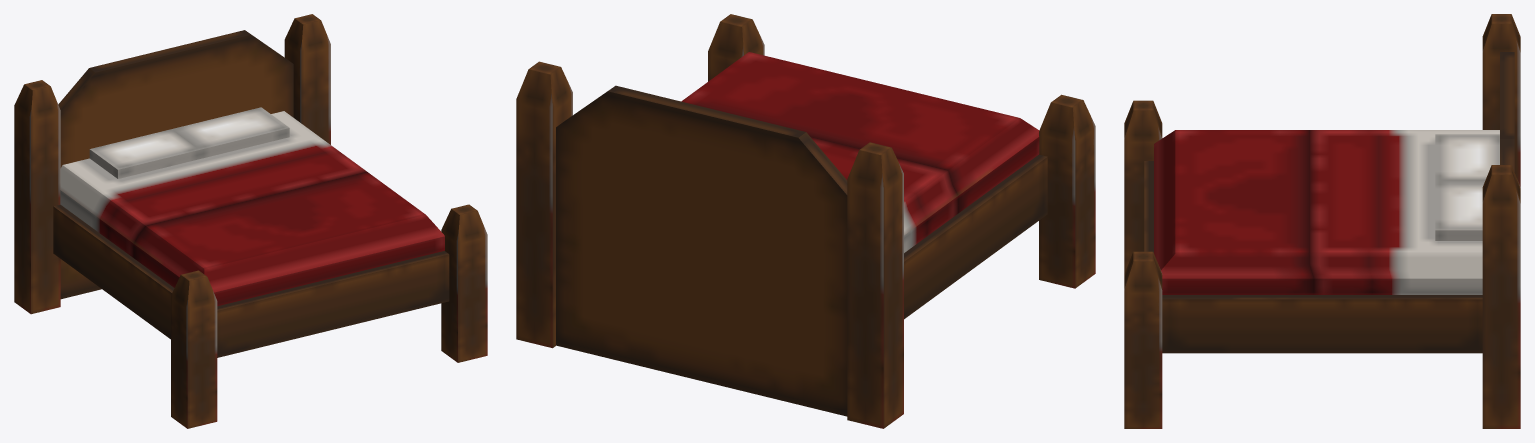
Rendered from hcmw_bed_4post.obj.
3 renders of one model, left to right at view 1: azimuth 30°, elevation 25°; view 2: azimuth 150°, elevation 25°; view 3: azimuth 270°, elevation 25°, orthographic. The views are drawn at different scales.
Visible parts, largest first — view 1: pbed_mattress, pbed_backboard, pbed_base, pbed_post_bl_sm, pbed_post_fl_sm, pbed_pillow, pbed_post_fr_sm, pbed_post_br_sm; view 2: pbed_backboard, pbed_mattress, pbed_post_bl_sm, pbed_post_br_sm, pbed_post_fl_sm, pbed_base, pbed_post_fr_sm; view 3: pbed_mattress, pbed_base, pbed_post_br_sm, pbed_post_fr_sm, pbed_pillow, pbed_post_fl_sm, pbed_post_bl_sm, pbed_backboard.
Part boxes in pixels (x1,y1,x2,y2): pbed_mattress: (60, 111, 444, 306); pbed_backboard: (58, 30, 293, 299); pbed_base: (53, 204, 449, 357); pbed_post_bl_sm: (14, 80, 60, 314); pbed_post_fl_sm: (171, 270, 217, 428); pbed_pillow: (89, 107, 289, 178); pbed_post_fr_sm: (441, 204, 487, 362); pbed_post_br_sm: (284, 14, 330, 144); pbed_backboard: (556, 85, 847, 416); pbed_mattress: (681, 52, 1039, 252); pbed_post_bl_sm: (847, 142, 903, 428); pbed_post_br_sm: (516, 61, 572, 348); pbed_post_fl_sm: (1039, 94, 1095, 288); pbed_base: (904, 154, 1047, 319); pbed_post_fr_sm: (708, 14, 764, 81); pbed_mattress: (1154, 130, 1499, 294); pbed_base: (1144, 161, 1482, 353); pbed_post_br_sm: (1482, 165, 1520, 428); pbed_post_fr_sm: (1124, 251, 1162, 428); pbed_pillow: (1435, 134, 1499, 240); pbed_post_fl_sm: (1124, 100, 1162, 273); pbed_post_bl_sm: (1482, 14, 1520, 186); pbed_backboard: (1500, 52, 1514, 171).
Size of the model in its own units: 2 by 1.4 by 2.
